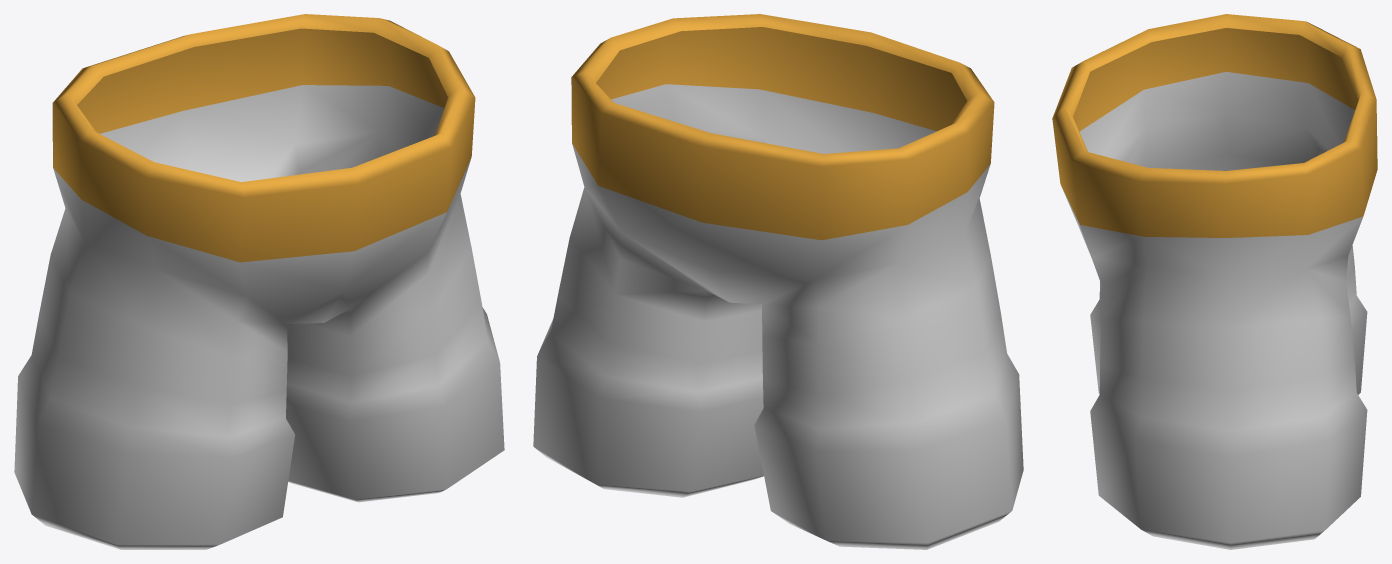
3 views of the same model, side by side, from view 1: azimuth 30°, elevation 25°; view 2: azimuth 150°, elevation 25°; view 3: azimuth 270°, elevation 25° (orthographic). The views are drawn at different scales.
Parts seen in each view (by area): view 1: Bottom_60.003; view 2: Bottom_60.003; view 3: Bottom_60.003.
Boxes of the visible parts, x1,y1,x2,y2 form: Bottom_60.003: (14,14,504,549); Bottom_60.003: (533,14,1023,549); Bottom_60.003: (1052,14,1377,549).
Bounding box in the file's own units: 31.78 × 26.67 × 20.9.
